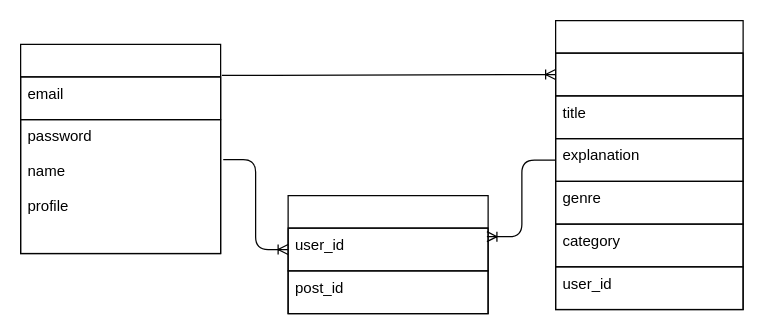
The diagram is 764 pixels wide and 334 high, and some of its shapes have lost their labels. The shapes that lost their labels are listed below. From the top down, each one's box as (x1, y1, x2, y2) in pixels, then its label:
(554, 52, 743, 96): image
(19, 43, 221, 254): Users
(554, 19, 743, 310): Posts
(287, 194, 488, 314): Comments
